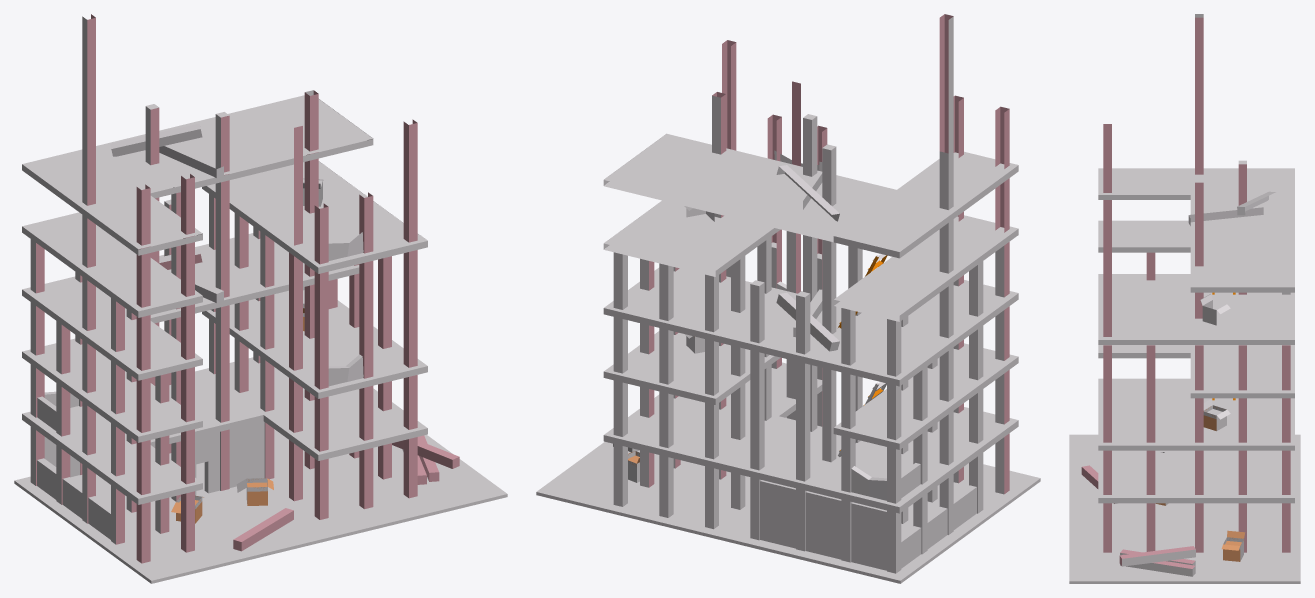
File: construction_site.glb
The picture shows the model from 3 angles, left to right: view 1: azimuth 30°, elevation 25°; view 2: azimuth 150°, elevation 25°; view 3: azimuth 270°, elevation 25°; orthographic projection. The views are drawn at different scales.
Visible parts, largest first — view 1: div_t4_24_noelthomas_01., div_t4_24_noelthomas_01..001; view 2: div_t4_24_noelthomas_01., div_t4_24_noelthomas_01..001; view 3: div_t4_24_noelthomas_01., div_t4_24_noelthomas_01..001.
Part boxes in pixels (x1,y1,x2,y2): div_t4_24_noelthomas_01.: (14, 14, 464, 583); div_t4_24_noelthomas_01..001: (14, 429, 507, 583); div_t4_24_noelthomas_01.: (536, 14, 1040, 583); div_t4_24_noelthomas_01..001: (536, 417, 1040, 583); div_t4_24_noelthomas_01.: (1081, 14, 1296, 583); div_t4_24_noelthomas_01..001: (1069, 434, 1300, 583).
Bounding box in the file's own units: 6 × 8.16 × 4.
